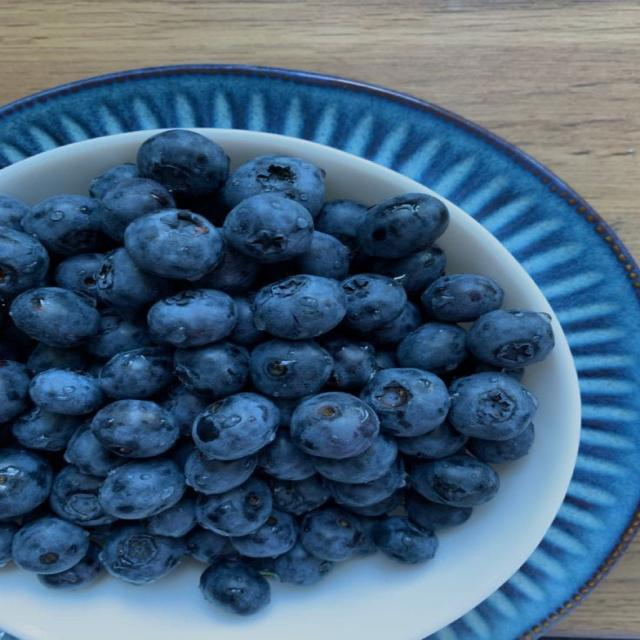blueberry: (125, 209, 224, 280), (360, 368, 451, 436), (223, 194, 313, 262), (137, 130, 229, 196), (223, 156, 324, 216), (449, 373, 538, 440), (357, 194, 449, 258), (254, 275, 346, 339), (291, 393, 379, 459), (193, 393, 279, 459), (10, 288, 99, 347), (147, 290, 237, 347), (100, 524, 185, 584), (100, 459, 185, 519), (91, 400, 179, 457), (468, 309, 554, 367), (100, 178, 174, 242), (250, 340, 333, 397), (22, 196, 100, 255), (97, 248, 174, 307), (411, 455, 499, 506), (197, 477, 272, 536), (174, 341, 249, 399), (13, 517, 89, 574), (313, 434, 397, 483), (421, 274, 503, 322), (50, 466, 115, 526), (328, 457, 406, 507), (200, 560, 270, 615), (371, 244, 446, 295), (0, 448, 52, 520), (100, 348, 173, 399), (342, 274, 406, 331), (397, 323, 466, 374), (29, 369, 104, 415), (87, 308, 153, 359), (0, 228, 49, 296), (65, 423, 126, 477), (300, 508, 362, 561), (231, 509, 298, 557), (185, 449, 257, 493), (13, 407, 82, 451), (39, 543, 102, 591), (374, 517, 438, 564), (194, 248, 259, 294), (259, 429, 315, 480), (396, 421, 467, 459), (157, 383, 208, 435), (325, 339, 377, 390), (467, 424, 534, 463), (297, 231, 349, 281), (315, 200, 366, 250), (406, 492, 472, 530), (274, 543, 333, 585), (367, 303, 422, 347), (270, 475, 330, 515), (55, 253, 104, 297), (147, 494, 196, 537), (229, 293, 267, 347), (27, 343, 87, 375), (89, 164, 139, 200), (0, 360, 29, 422), (186, 527, 233, 564), (0, 316, 36, 362), (350, 490, 404, 517), (470, 359, 525, 382), (273, 397, 308, 427), (0, 195, 29, 230), (167, 438, 196, 471), (86, 520, 122, 546), (0, 522, 19, 568), (358, 516, 379, 555), (375, 350, 398, 370)
